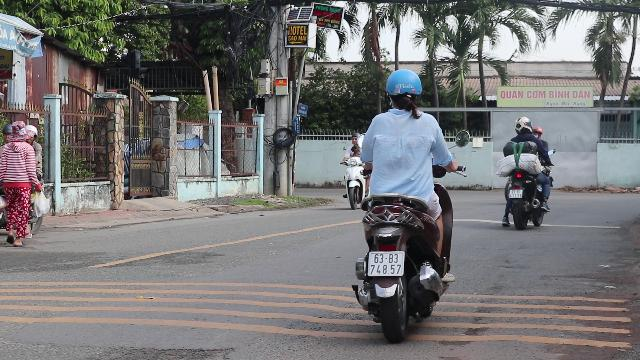helmet: (383, 67, 423, 111), (514, 116, 530, 134)
licenseplate: (368, 251, 404, 275), (510, 190, 522, 198)
motorcyclist: (347, 66, 463, 338), (496, 114, 552, 228)
